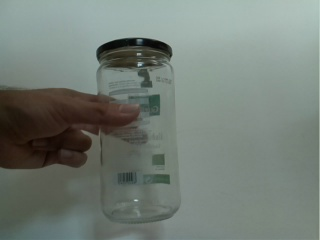pote cristal: (93, 35, 185, 227)
